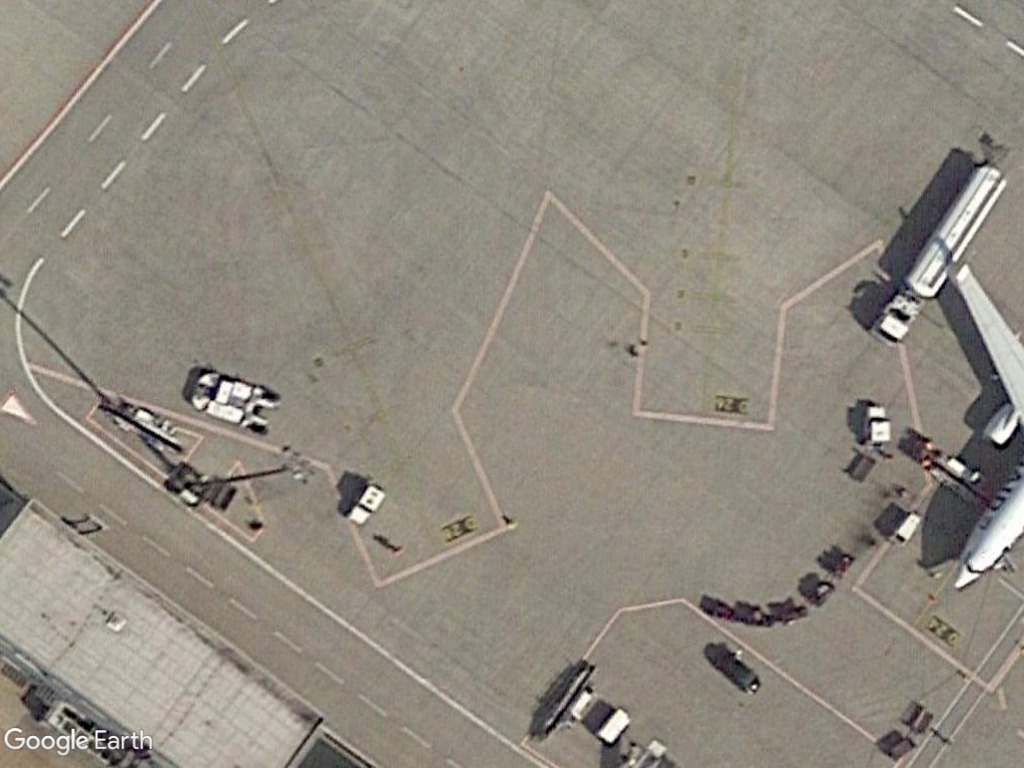longvehicle: (897, 158, 1012, 304)
pushbacktruck: (189, 365, 281, 437)
